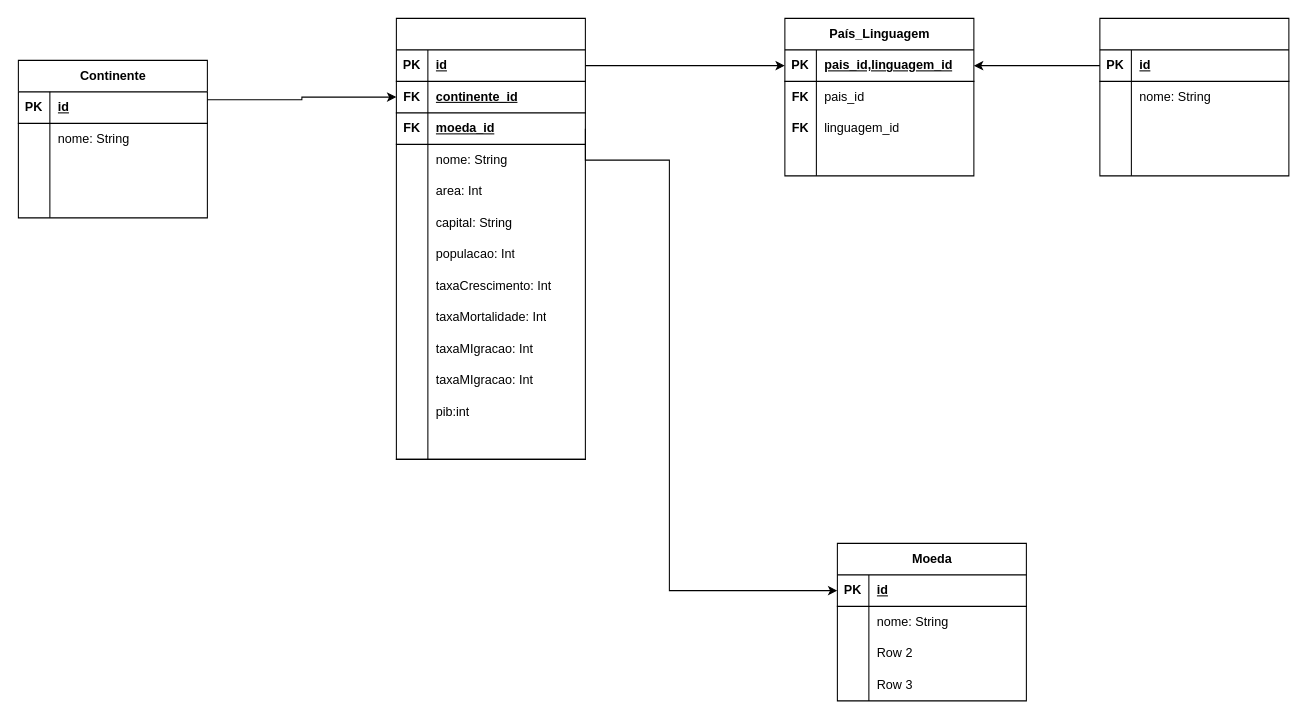
Image size: 1307x719. Some labels were removed from this diagram. Each missing label, with the box of its shape:
Linguagem: (1099, 17, 1289, 176)
País: (395, 17, 585, 459)
